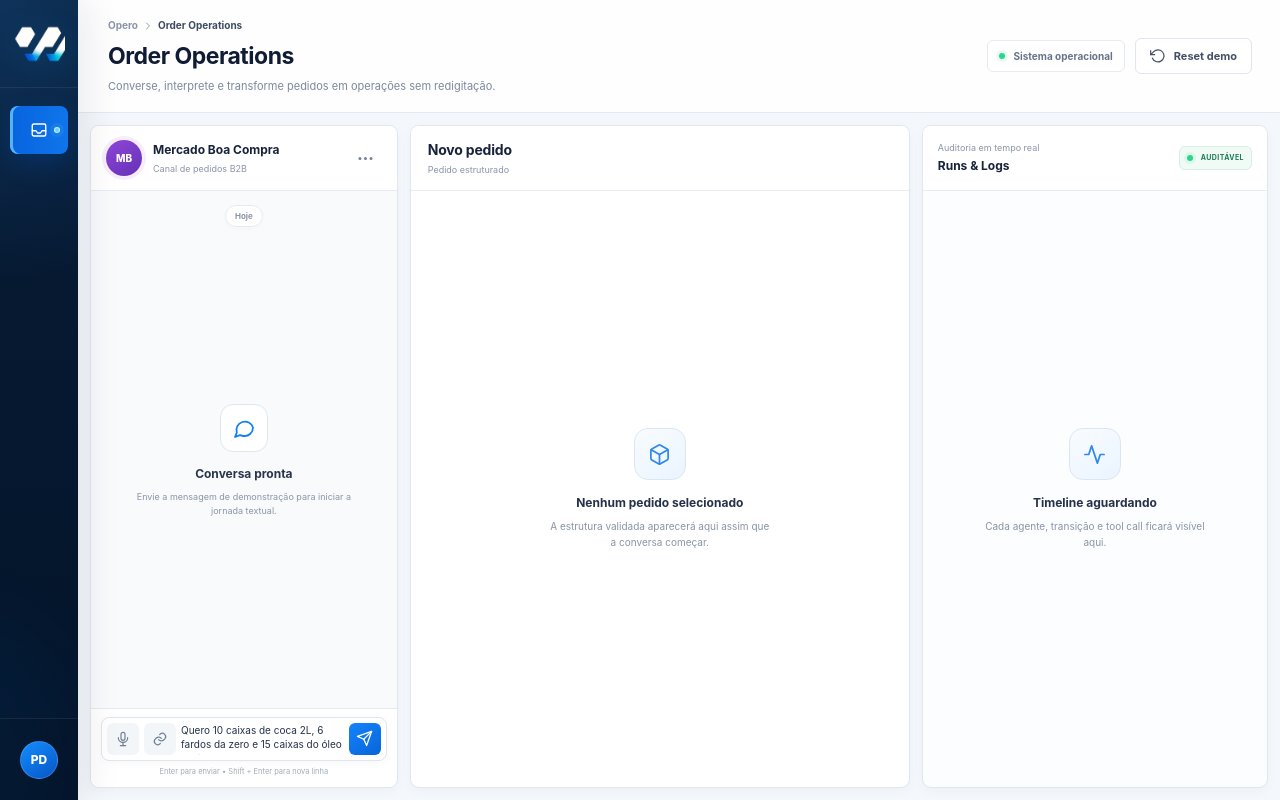
Test: console Opero › bloqueia envio concorrente enquanto a primeira mutação está pendente
Click the button named "Enviar mensagem": {"x": 365, "y": 739} [349,723,381,755]
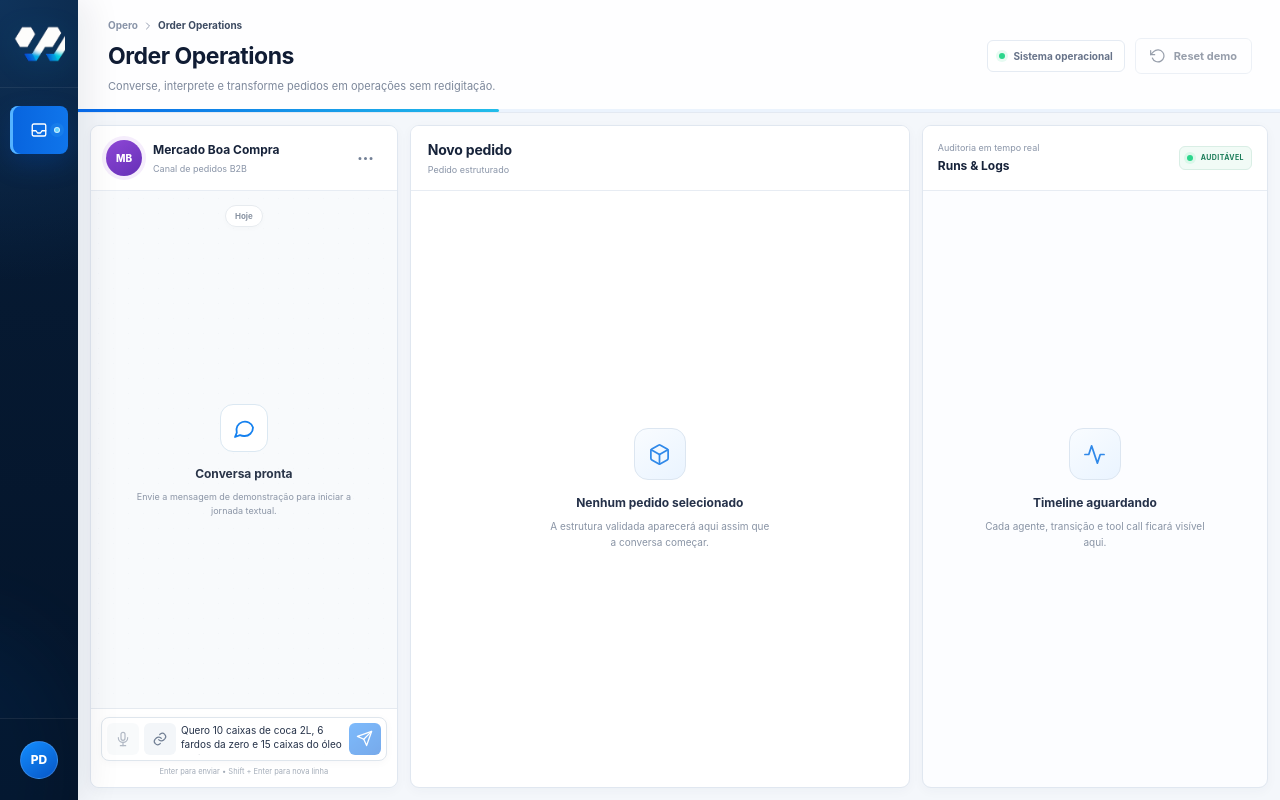
Result: the button named "Enviar mensagem" is disabled
Click the button named "Enviar mensagem": {"x": 365, "y": 739} [349,723,381,755]
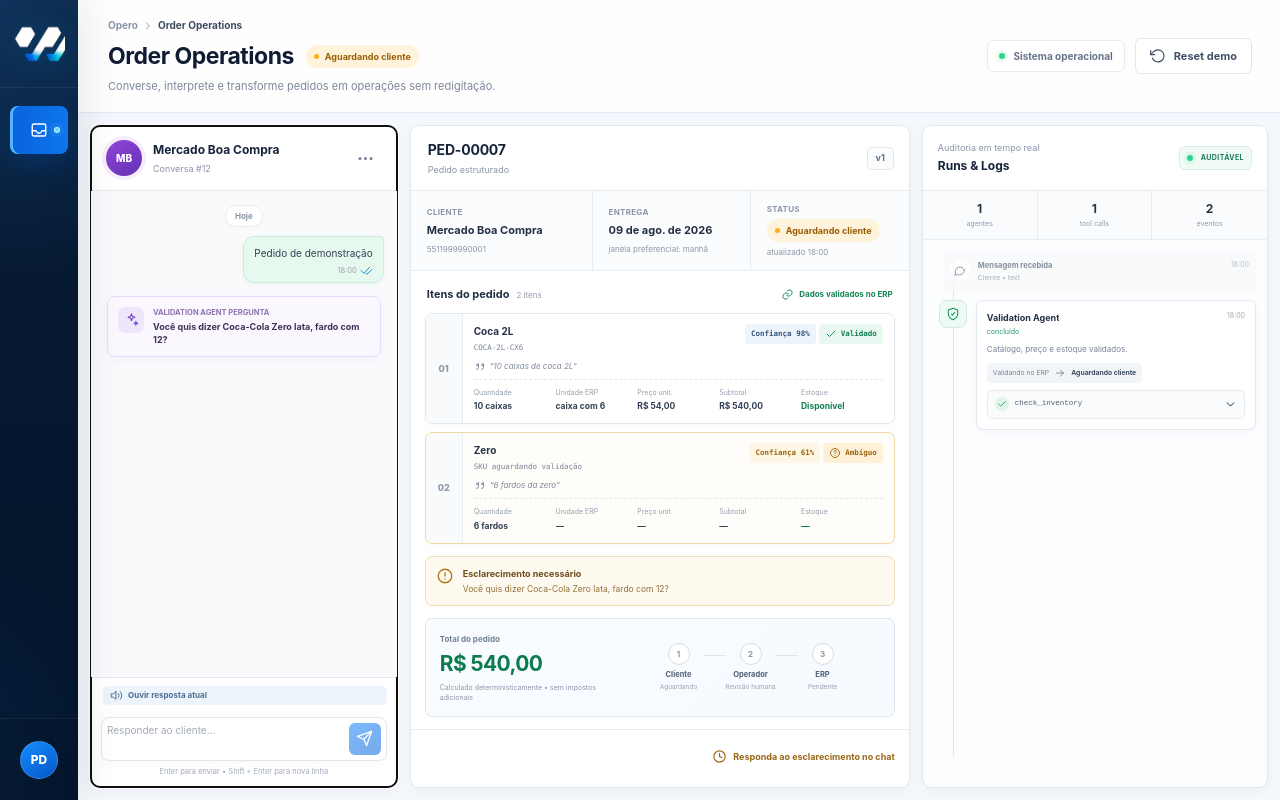
Result: the text "COCA-2L-CX6" is shown at [474,342,523,353]
